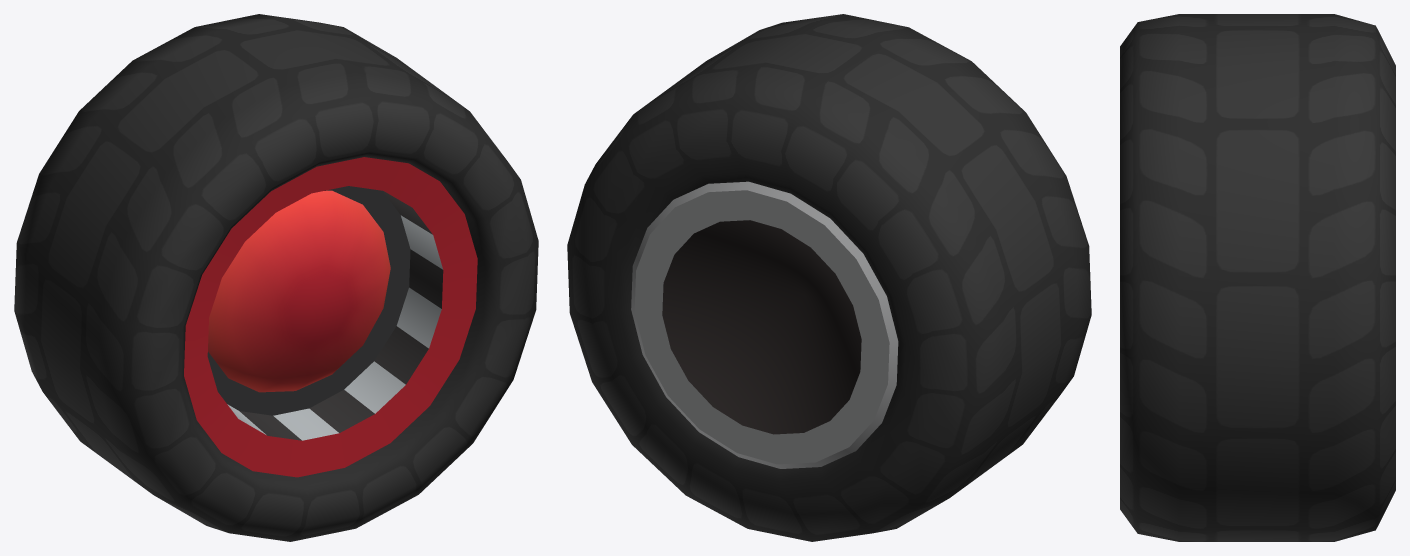
Rendered from Wheel_02.fbx.
3 renders of one model, left to right at view 1: azimuth 30°, elevation 25°; view 2: azimuth 150°, elevation 25°; view 3: azimuth 270°, elevation 25°, orthographic. The views are drawn at different scales.
Parts seen in each view (by area): view 1: Wheel_02; view 2: Wheel_02; view 3: Wheel_02.
Part boxes in pixels (<box>): Wheel_02: <box>14,14,538,541</box>; Wheel_02: <box>567,14,1091,541</box>; Wheel_02: <box>1120,14,1395,541</box>.
Size of the model in its own units: 95 by 50 by 95.
